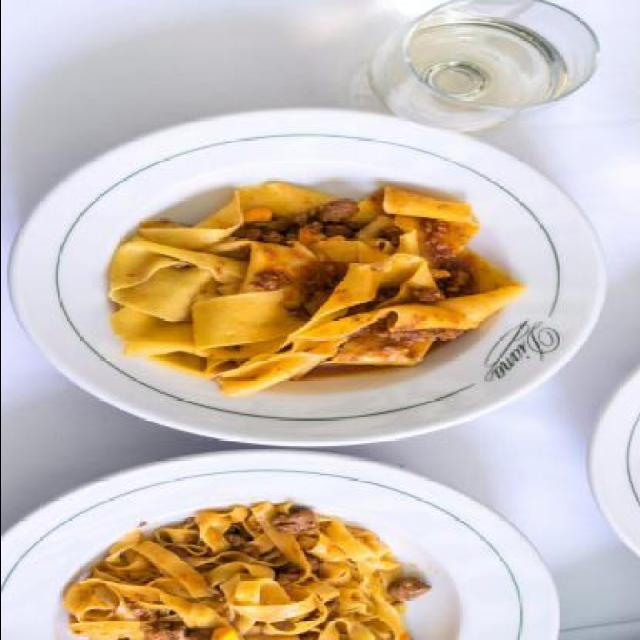Pasta al ragu: (114, 188, 516, 402), (62, 515, 476, 640)
